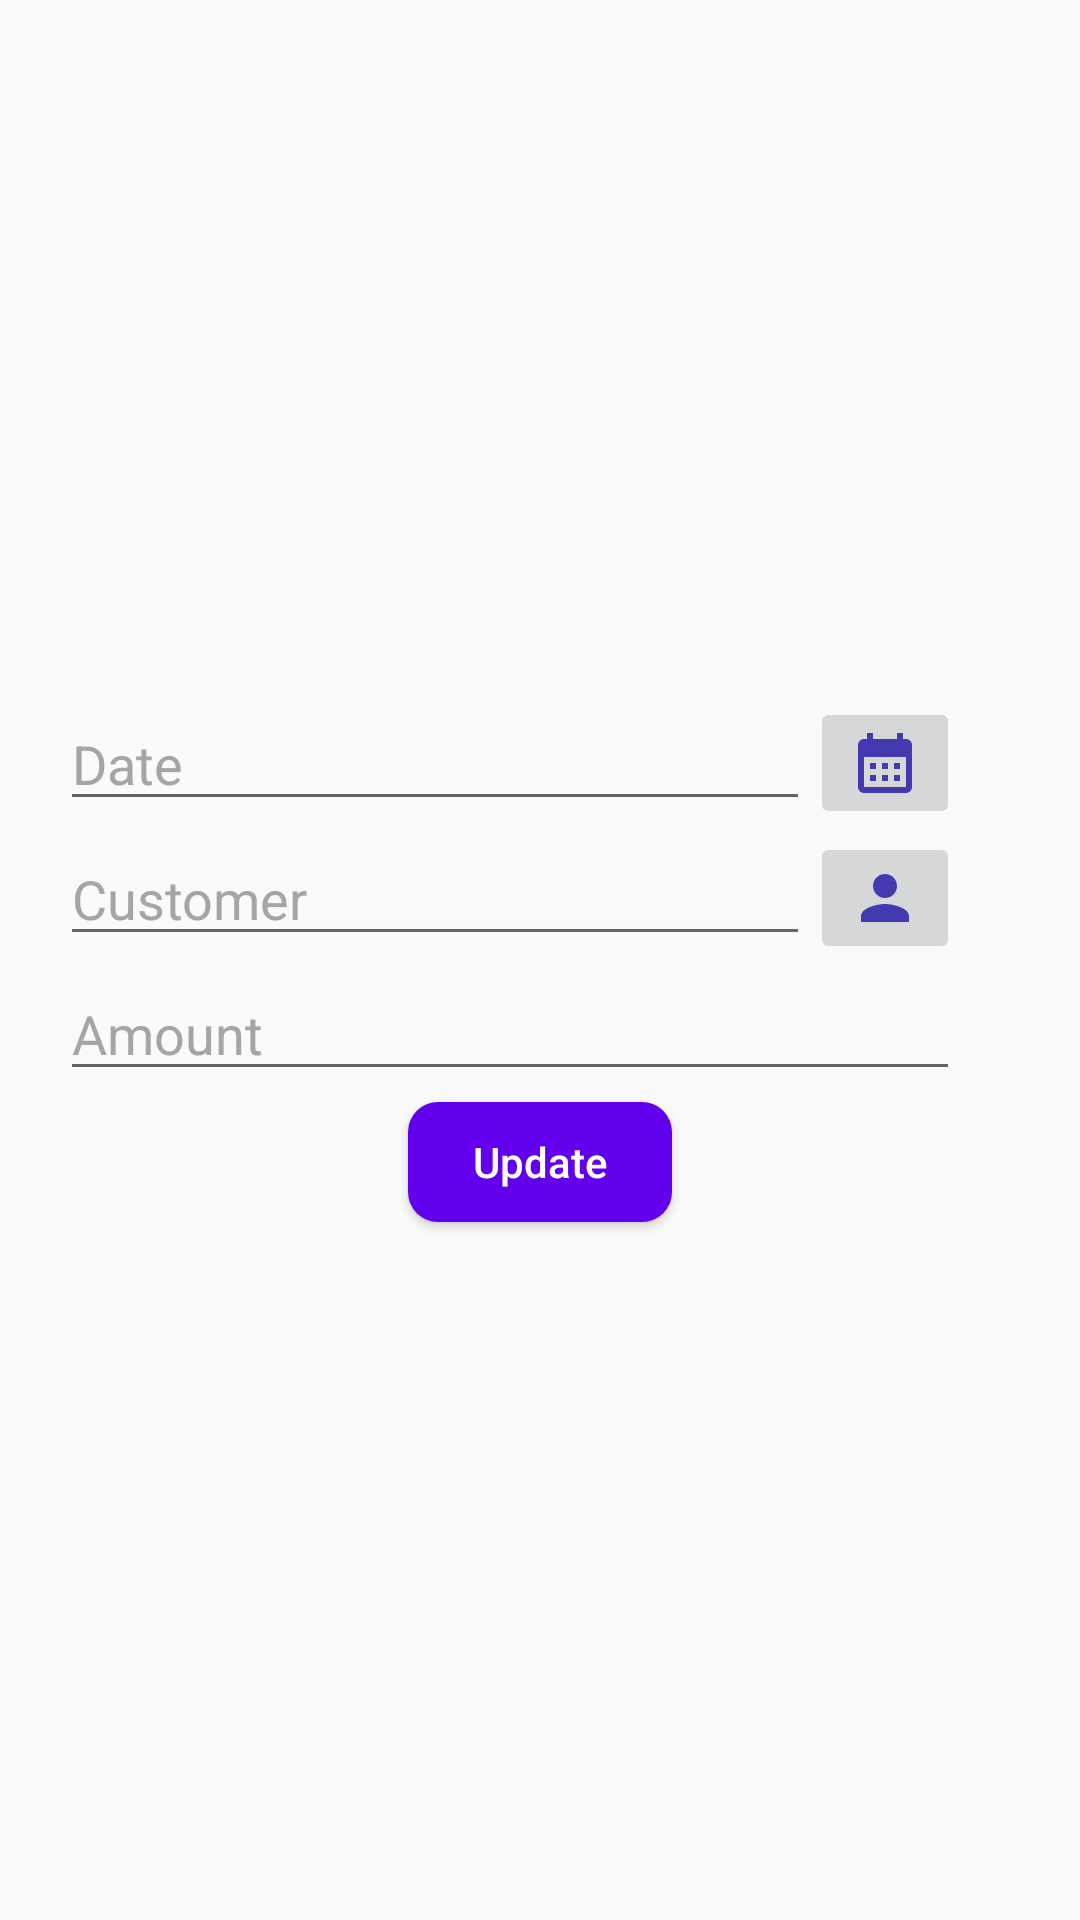

Icon bounding boxes for this 1080 × 1920 phone screenshot, format (x1, y1, x2, y2):
calendar month: (822, 715, 948, 811)
person: (822, 850, 948, 946)
